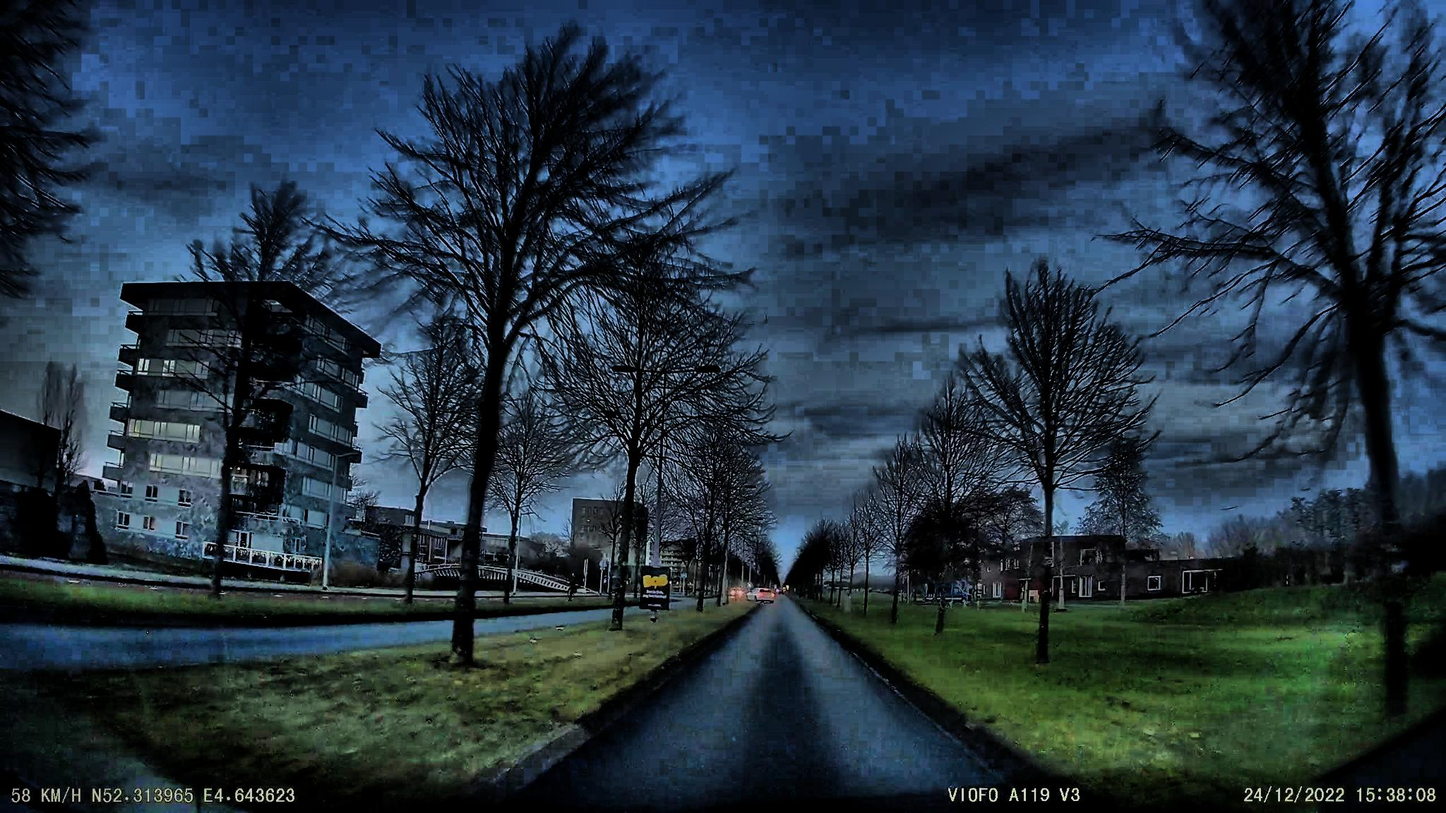Roads: (660, 600, 963, 770)
